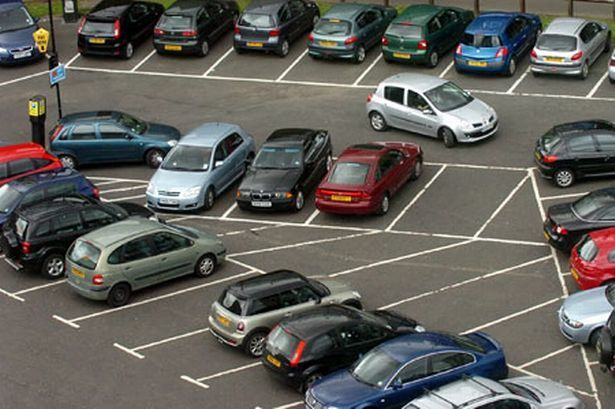Car: (304, 331, 508, 409), (65, 217, 226, 306), (262, 304, 422, 392), (208, 269, 362, 357), (0, 197, 153, 279), (145, 122, 255, 212), (366, 73, 499, 147), (315, 141, 423, 214), (237, 128, 333, 210), (49, 110, 181, 168), (0, 168, 100, 230), (402, 376, 583, 409), (382, 4, 473, 67), (453, 12, 542, 76), (535, 119, 615, 188), (308, 4, 395, 63), (77, 0, 164, 59), (530, 18, 611, 79), (233, 0, 319, 57), (153, 0, 239, 57), (543, 186, 615, 252), (557, 283, 615, 345), (570, 228, 615, 289), (0, 0, 42, 65), (0, 143, 62, 186), (608, 49, 615, 83)
